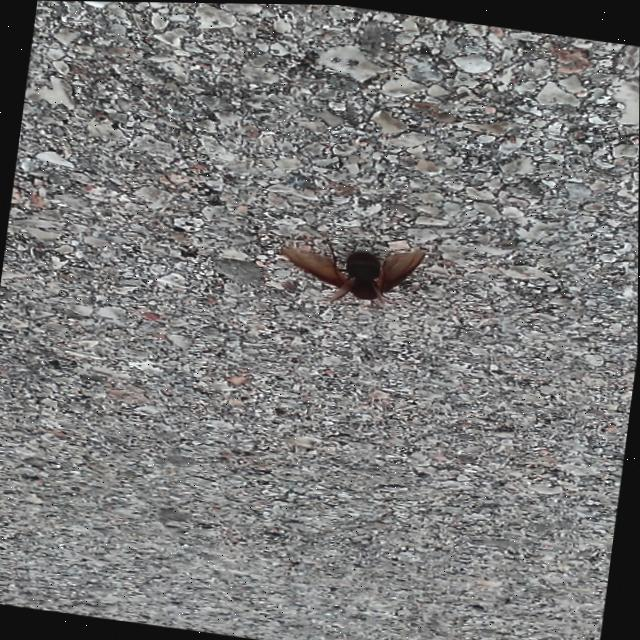Alive-Female-Alate: (275, 229, 439, 316)
